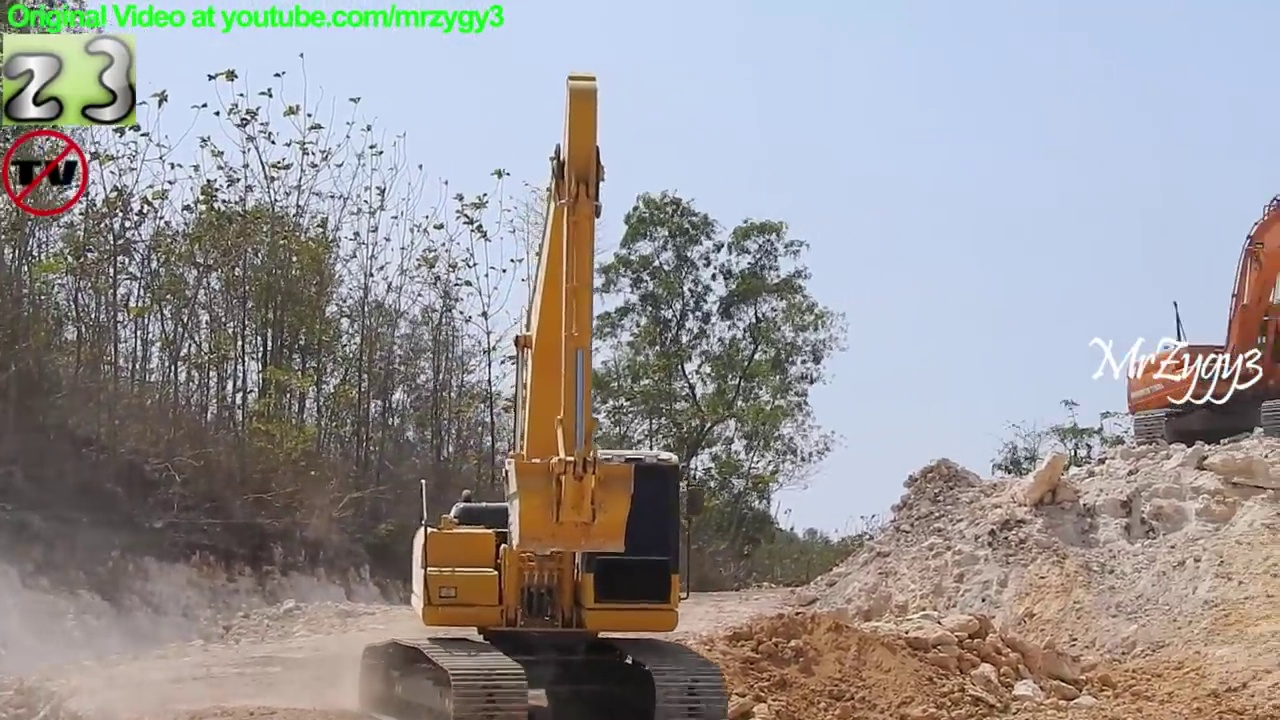excavator: (351, 72, 735, 720), (1122, 189, 1280, 455)
